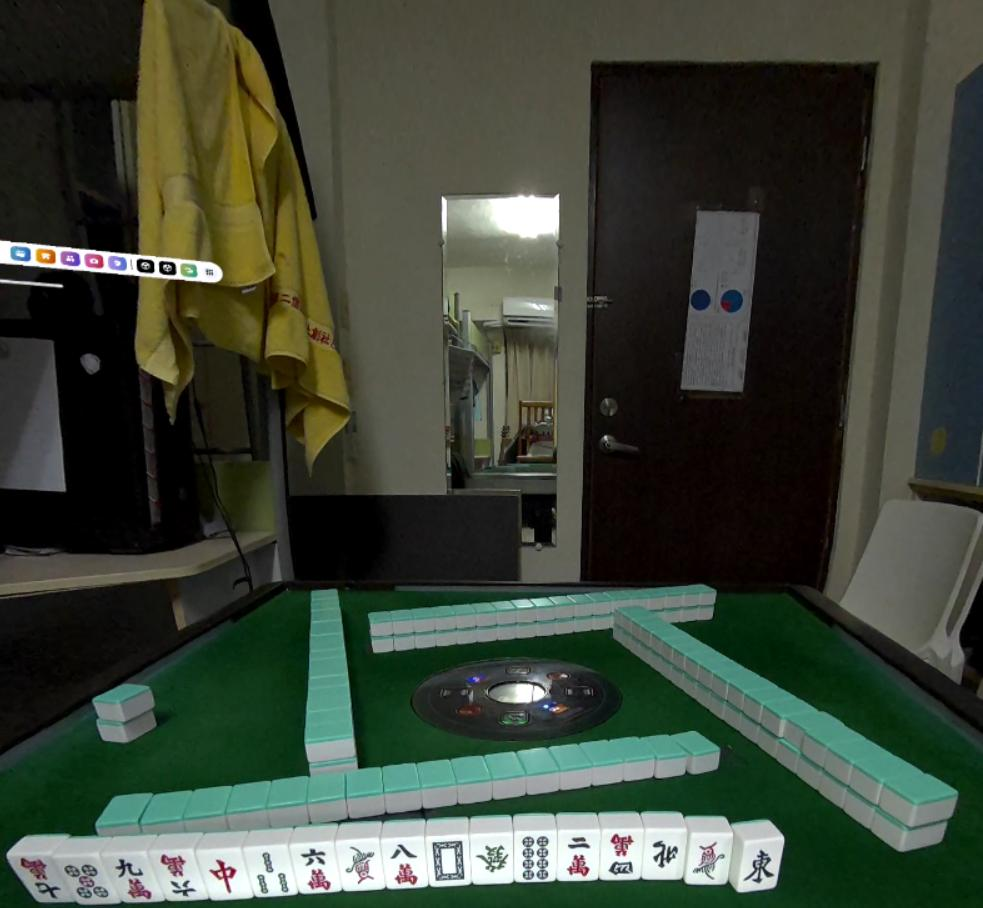mahjong: (640, 825, 694, 881), (243, 842, 295, 900), (200, 846, 250, 901), (464, 833, 518, 883), (377, 833, 425, 889), (423, 835, 472, 889), (16, 852, 63, 908), (156, 847, 203, 903), (691, 835, 737, 890), (290, 836, 335, 892), (59, 856, 109, 906), (336, 840, 386, 889), (107, 852, 155, 901), (737, 839, 782, 891), (516, 829, 558, 882), (560, 829, 600, 882), (600, 829, 640, 881)
